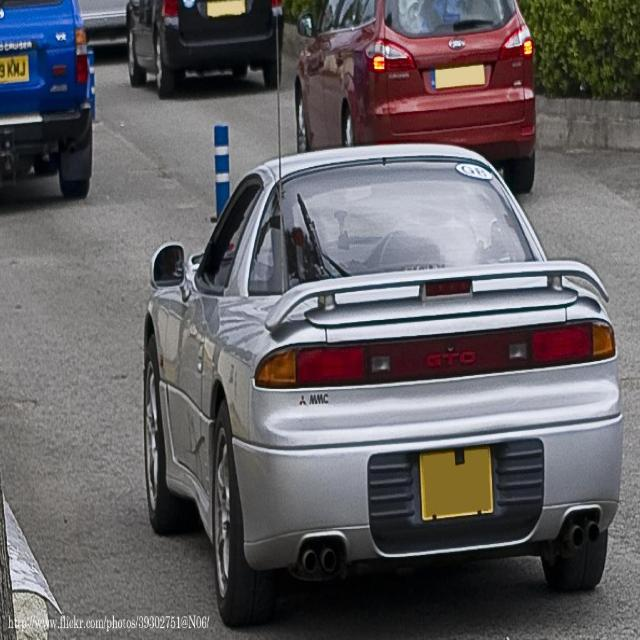car: (140, 137, 623, 625)
